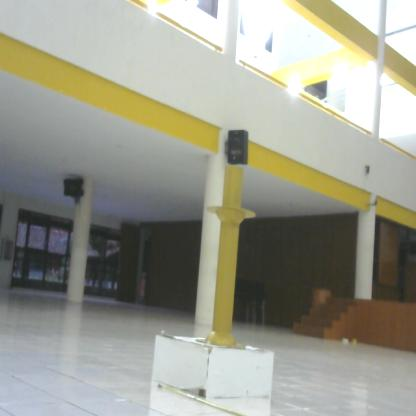pole: (189, 171, 258, 353)
